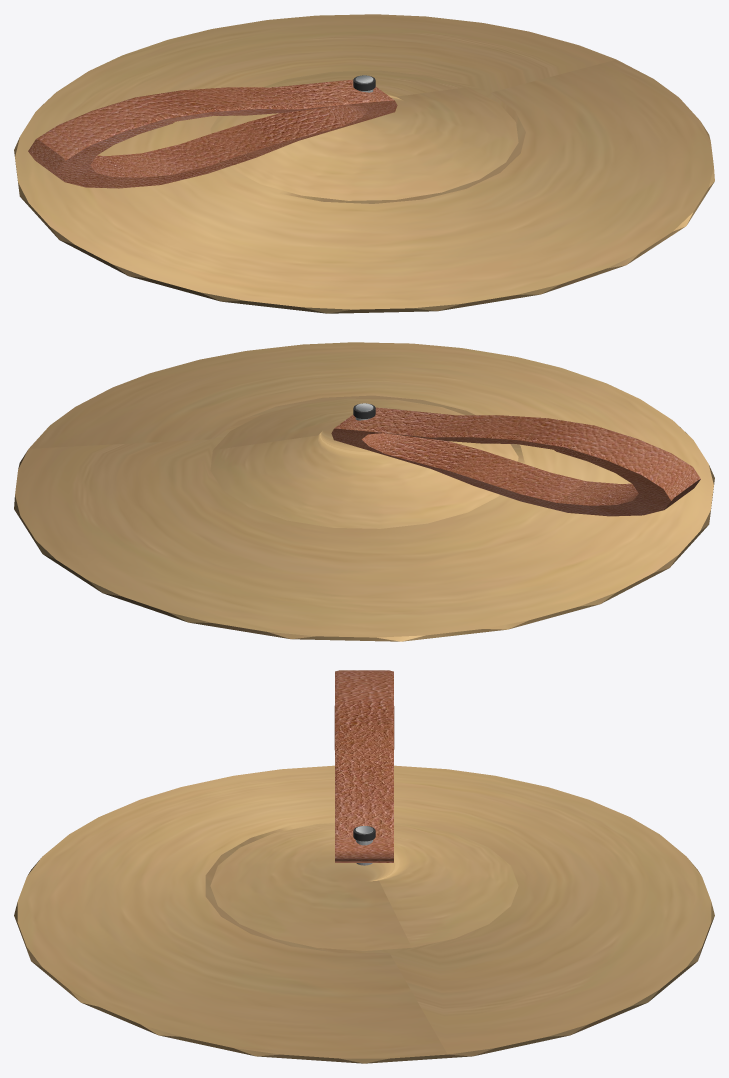
File: Cymbal.fbx
3 views of the same model, one above another, from view 1: azimuth 30°, elevation 25°; view 2: azimuth 150°, elevation 25°; view 3: azimuth 270°, elevation 25° (orthographic).
Visible parts, largest first — view 1: pCone1, pCone2, pCylinder4; view 2: pCone1, pCone2, pCylinder4; view 3: pCone1, pCone2, pCylinder4.
Part boxes in pixels (box(x1,y1,x2,y2)): pCone1: box(14, 14, 714, 313); pCone2: box(210, 70, 518, 200); pCylinder4: box(28, 79, 397, 188); pCone1: box(14, 342, 714, 641); pCone2: box(210, 398, 518, 528); pCylinder4: box(331, 407, 700, 516); pCone1: box(14, 765, 714, 1063); pCone2: box(210, 822, 518, 950); pCylinder4: box(334, 670, 394, 862).
Size of the model in its own units: 19.15 by 3.25 by 18.65.
Materials: 4 (3 with a texture image).
